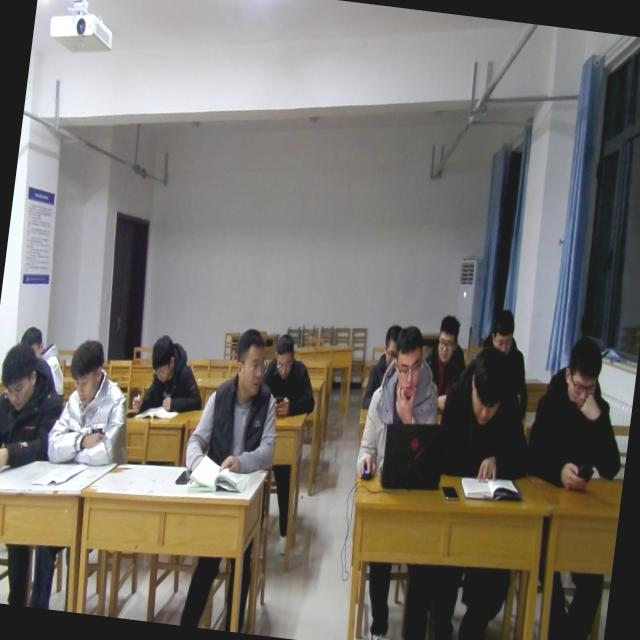down: (556, 332, 608, 413), (461, 348, 510, 429), (65, 334, 109, 404), (0, 339, 41, 412), (389, 322, 426, 401), (146, 328, 178, 378), (433, 311, 462, 364), (486, 304, 516, 354), (270, 332, 298, 378), (379, 320, 403, 366), (18, 324, 48, 356)
sit: (520, 328, 634, 496), (182, 321, 290, 484), (428, 338, 539, 494), (352, 320, 452, 492), (40, 334, 140, 474), (0, 337, 70, 480), (126, 330, 210, 420), (256, 328, 324, 420), (416, 310, 474, 414), (474, 306, 538, 399), (360, 320, 402, 416)
